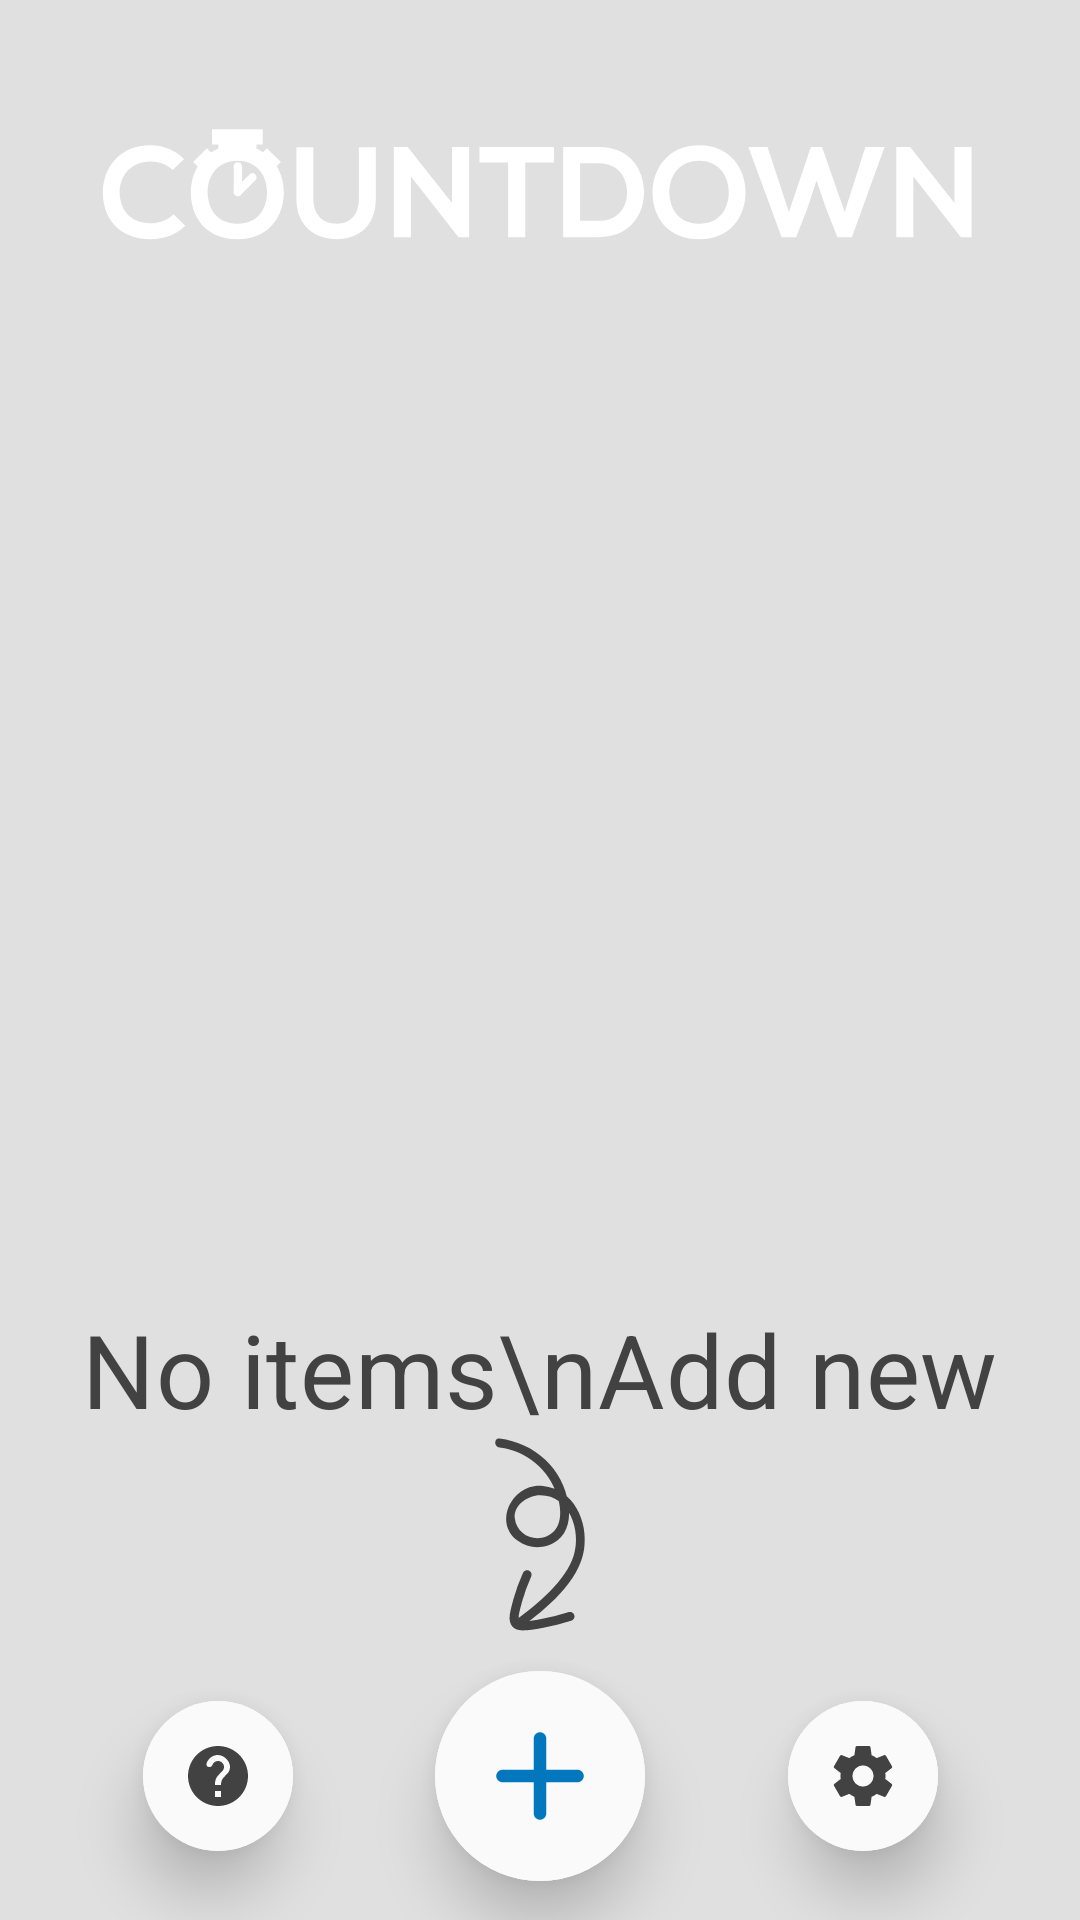

Icon click points for this 1080 × 1920 phone screenshot, format [x,y]:
add: [540,1776]
help: [218,1776]
pointing arrow: [540,1534]
settings: [863,1776]
